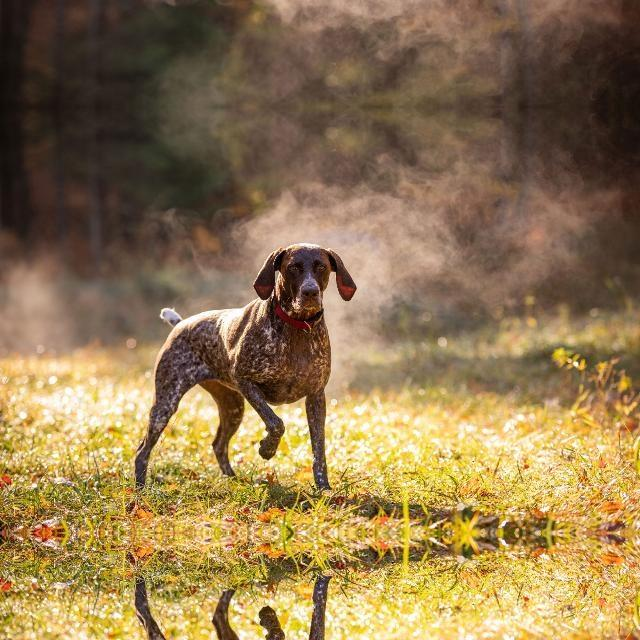dog: (126, 234, 366, 511), (126, 555, 366, 640)
